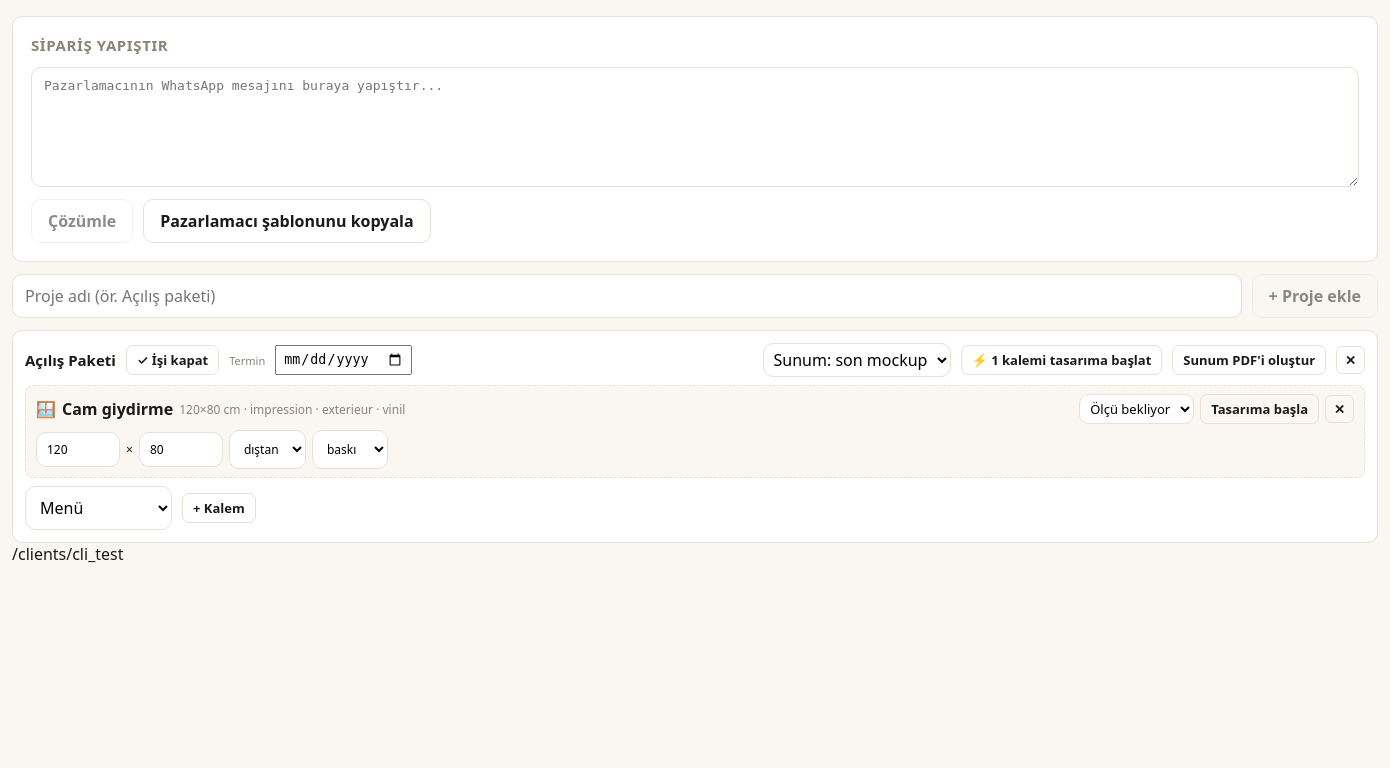
Test: ProjectsPanel · startDesign geri sarma zinciri › updateDocument reddi → deleteDocument DOĞRU id ile koşar, kalem bağlanmaz, toast gerekçeyi gösterir
Click the button "Tasarıma başla": (1260, 409) [1200,394,1319,424]
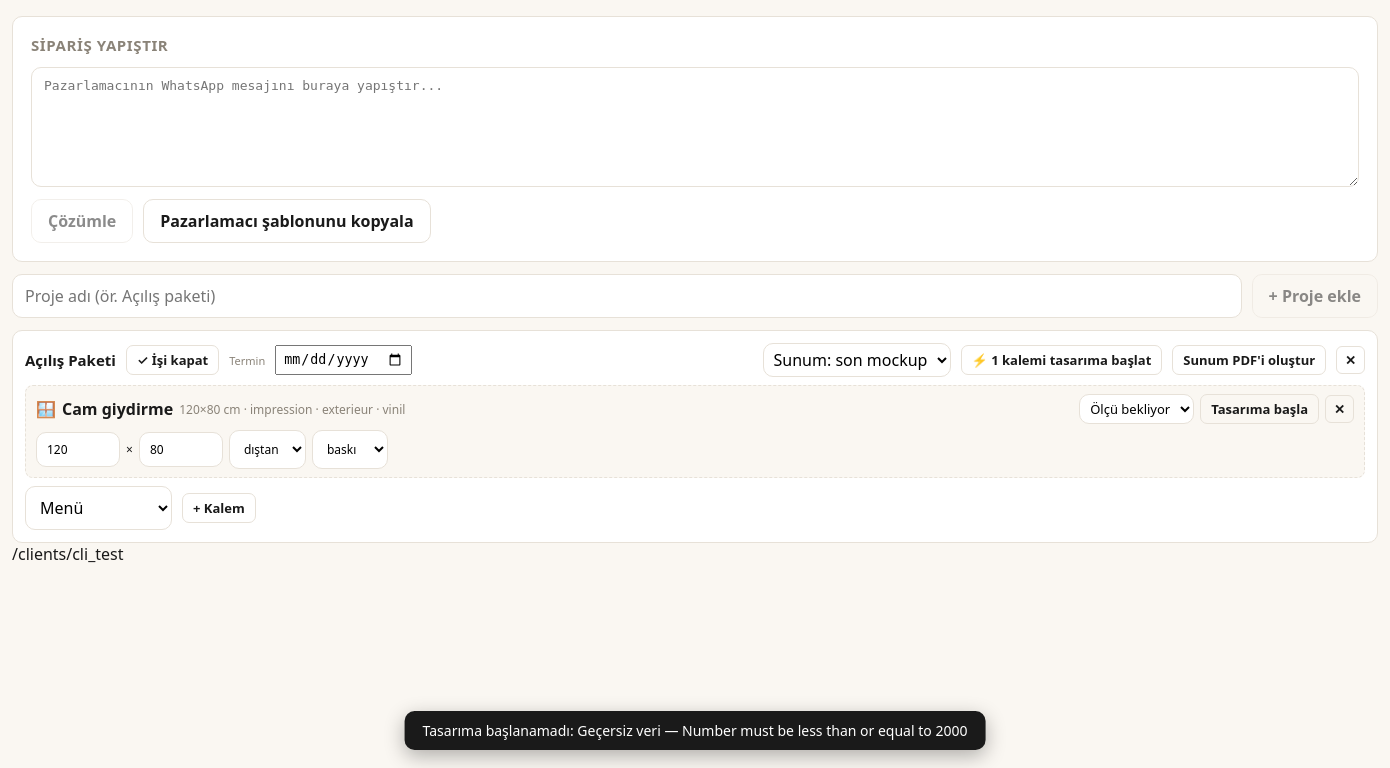
Check: the text with test id "konum" reads "/clients/cli_test", box [12,543,124,565]
Check: the text with class "toast" shows "Tasarıma başlanamadı", box [423,721,967,740]
Check: the text with class "toast" shows "Geçersiz veri — Number must be less than or equal to 2000", box [423,721,967,740]
